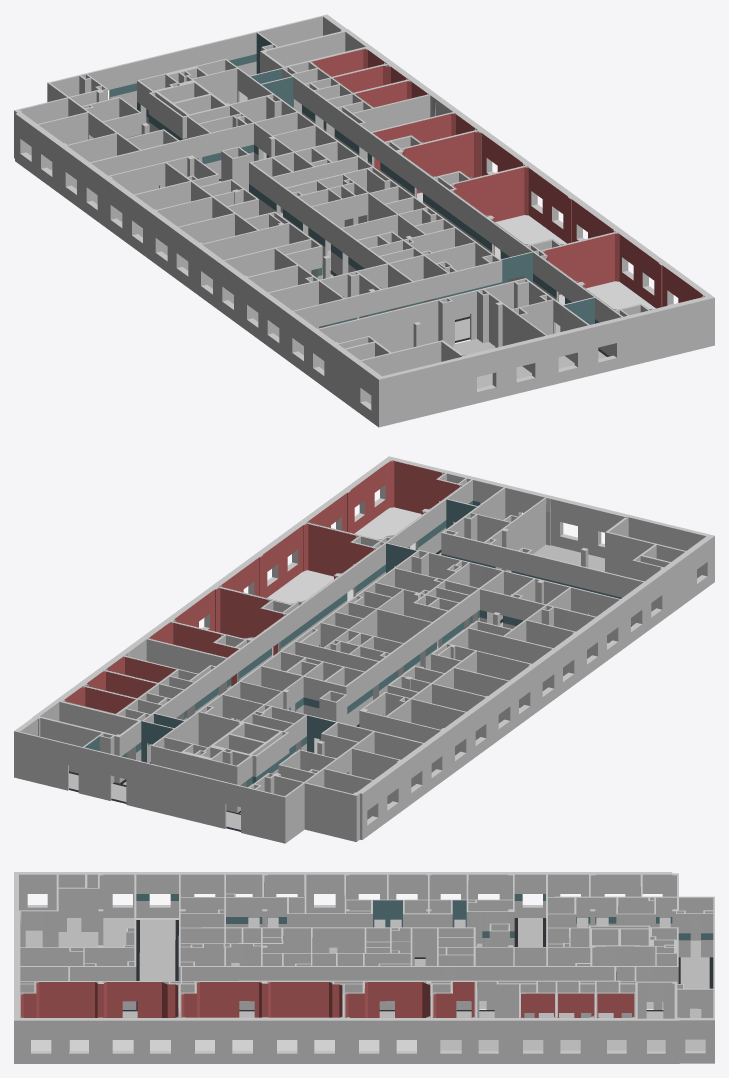
The model's file is Palata4Block.fbx.
3 views of the same model, one above another, from view 1: azimuth 30°, elevation 25°; view 2: azimuth 150°, elevation 25°; view 3: azimuth 270°, elevation 25° (orthographic). The views are drawn at different scales.
Visible parts, largest first — view 1: Plane; view 2: Plane; view 3: Plane.
Boxes of the visible parts, box(x1,y1,x2,y2) form: Plane: box(14, 14, 714, 427); Plane: box(14, 456, 714, 843); Plane: box(14, 872, 714, 1063).
Size of the model in its own units: 3097 by 420 by 6179.
